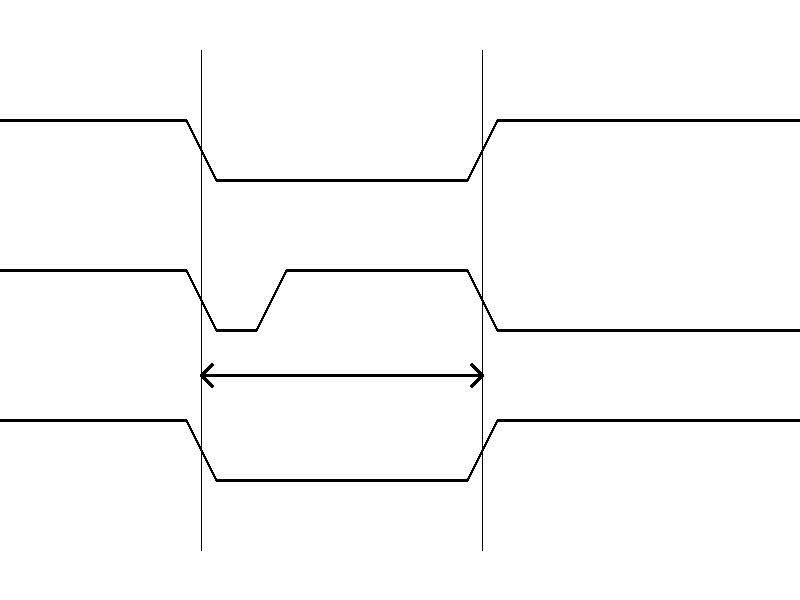double_arrow: (201, 360, 482, 390)
